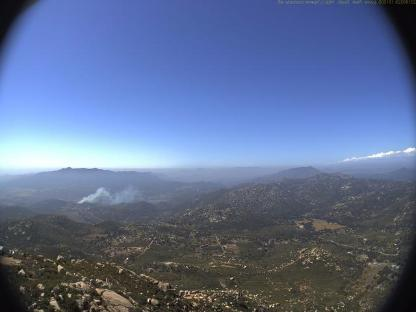smoke: (78, 182, 154, 206)
